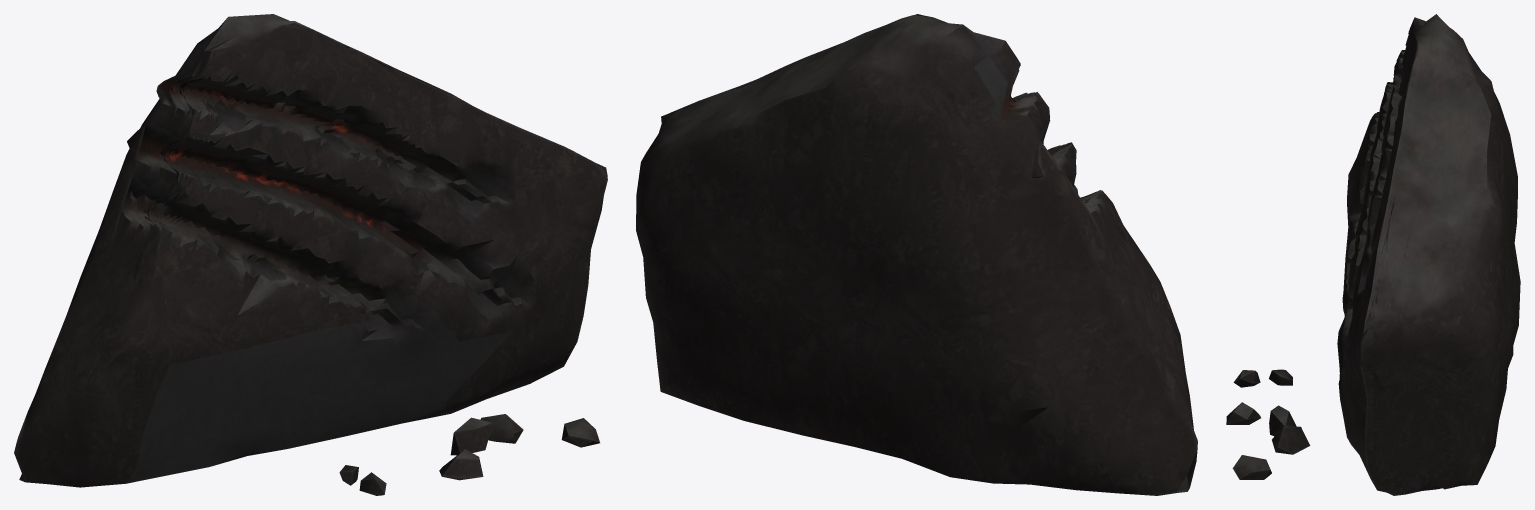
Rendered from b4p_claw_rock.glb.
3 renders of one model, left to right at view 1: azimuth 30°, elevation 25°; view 2: azimuth 150°, elevation 25°; view 3: azimuth 270°, elevation 25°, orthographic. The views are drawn at different scales.
Visible parts, largest first — view 1: b4p_claw_rock; view 2: b4p_claw_rock; view 3: b4p_claw_rock.
Boxes of the visible parts, <box> form: b4p_claw_rock: <box>14,14,607,495</box>; b4p_claw_rock: <box>636,14,1197,495</box>; b4p_claw_rock: <box>1226,14,1520,495</box>.
Bounding box in the file's own units: 1.89 × 1.32 × 0.9908.
1 material, 1 textured.
